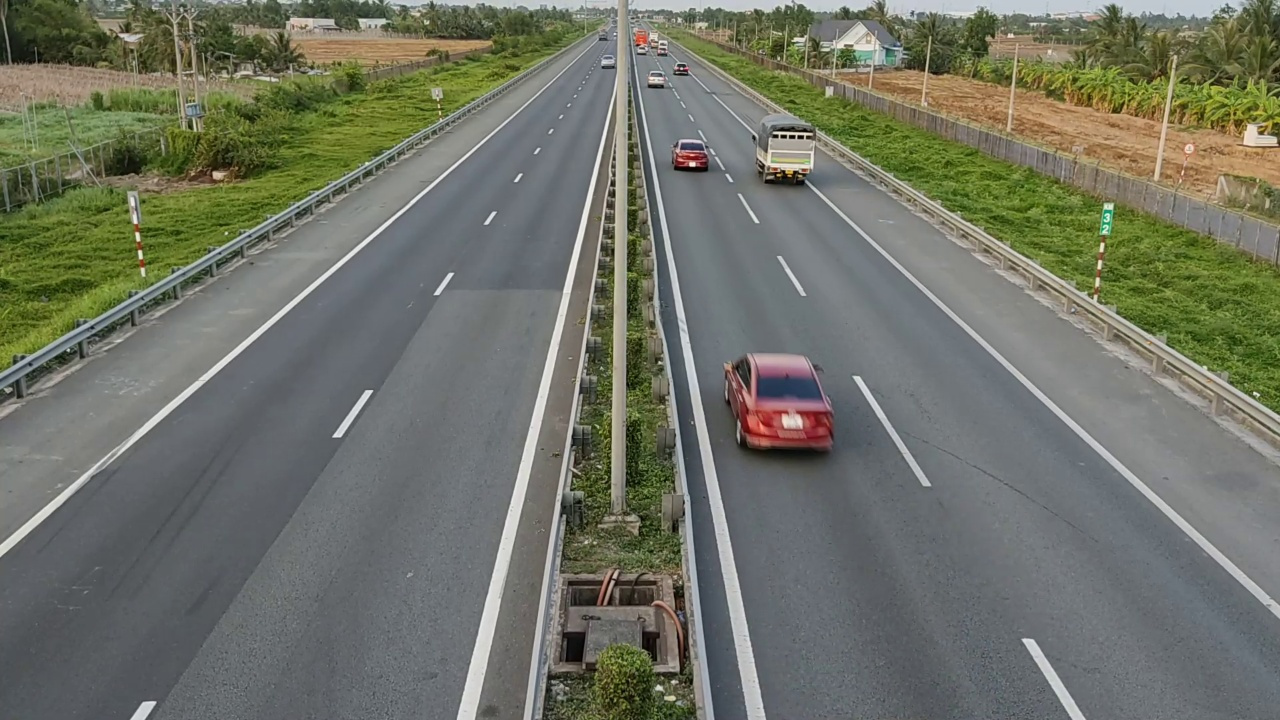car: (723, 352, 835, 452), (671, 138, 709, 171), (646, 71, 668, 87)
truck: (753, 113, 817, 185)
